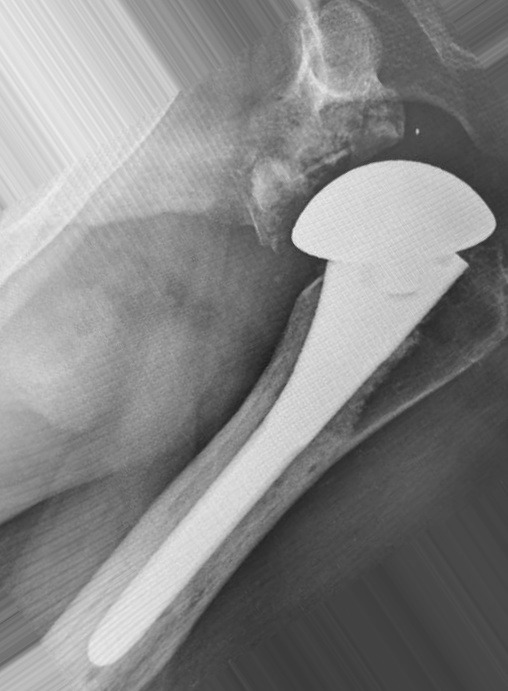Shoulder - Anotomical - Stryker: (286, 143, 508, 291)
